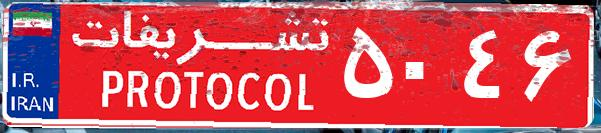0: (400, 20, 460, 115)
4: (460, 20, 520, 115)
5: (340, 20, 400, 115)
6: (520, 20, 580, 115)
تشریفات: (60, 8, 340, 125)
